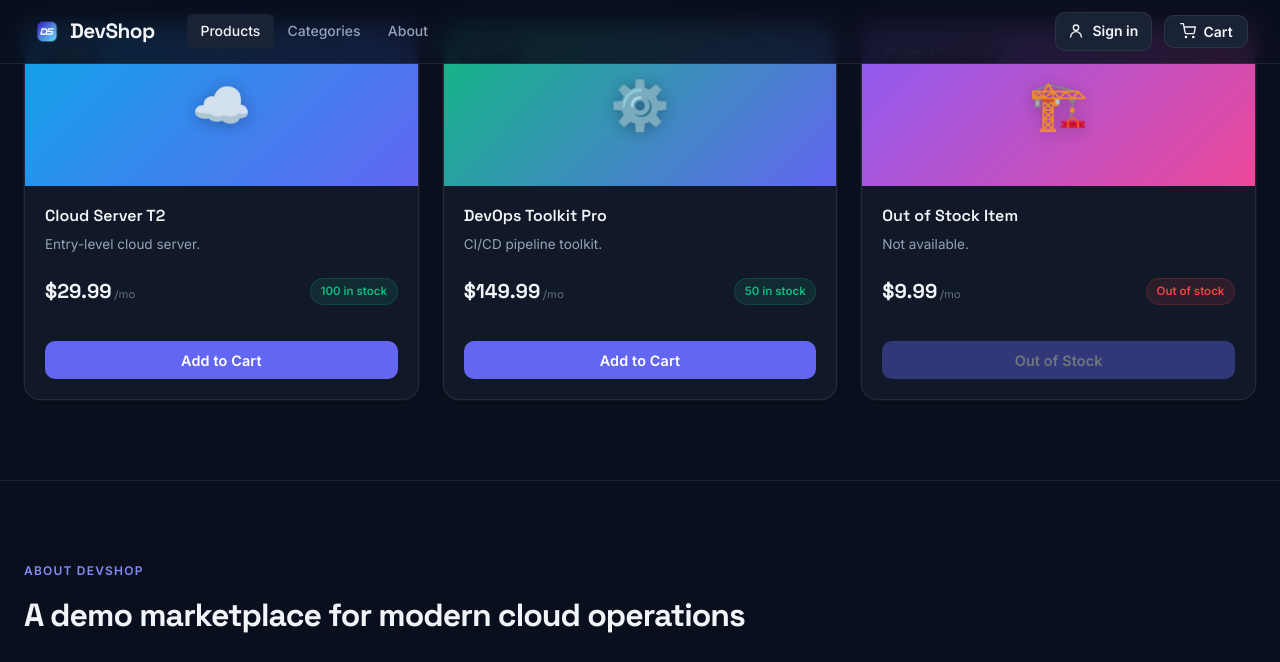
Test: Shopping cart › cart drawer opens and shows added item
(page scrolled)
Check: the heading "Cloud Server T2" is shown, box [45, 204, 165, 226]
Click the button "Add to Cart" below "29.99" at (221, 360), box [45, 341, 398, 380]
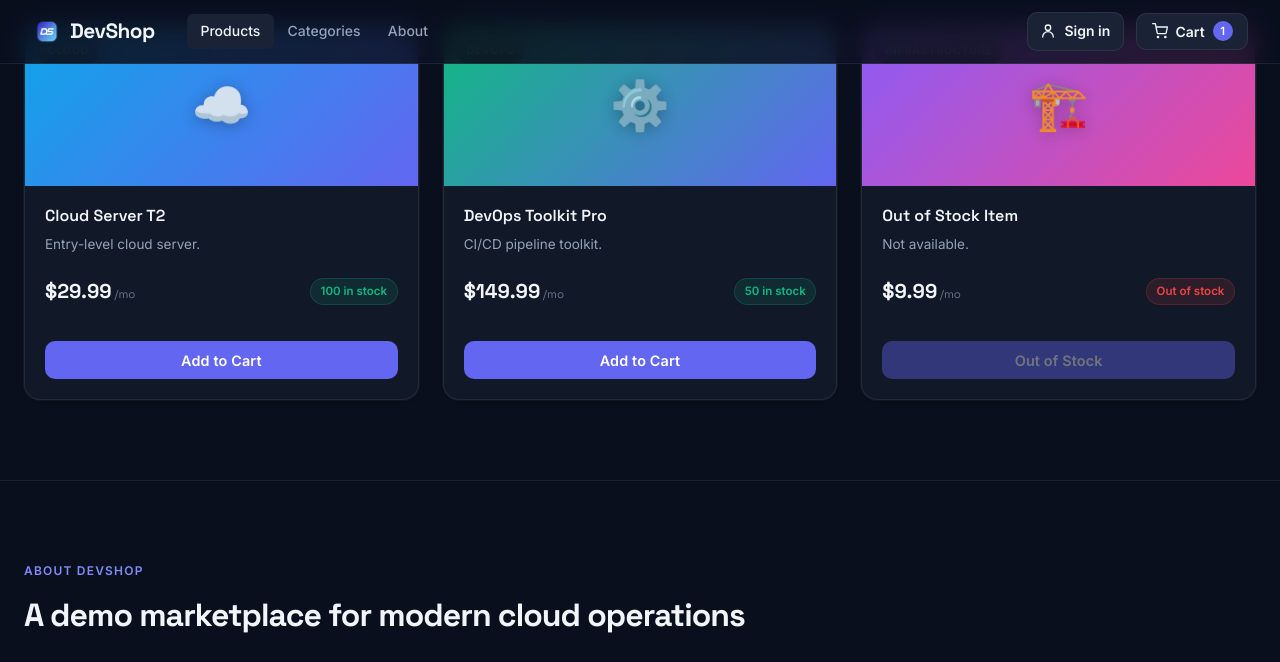
Click the button with aria-label "open cart" at (1192, 32), box [1136, 13, 1248, 50]
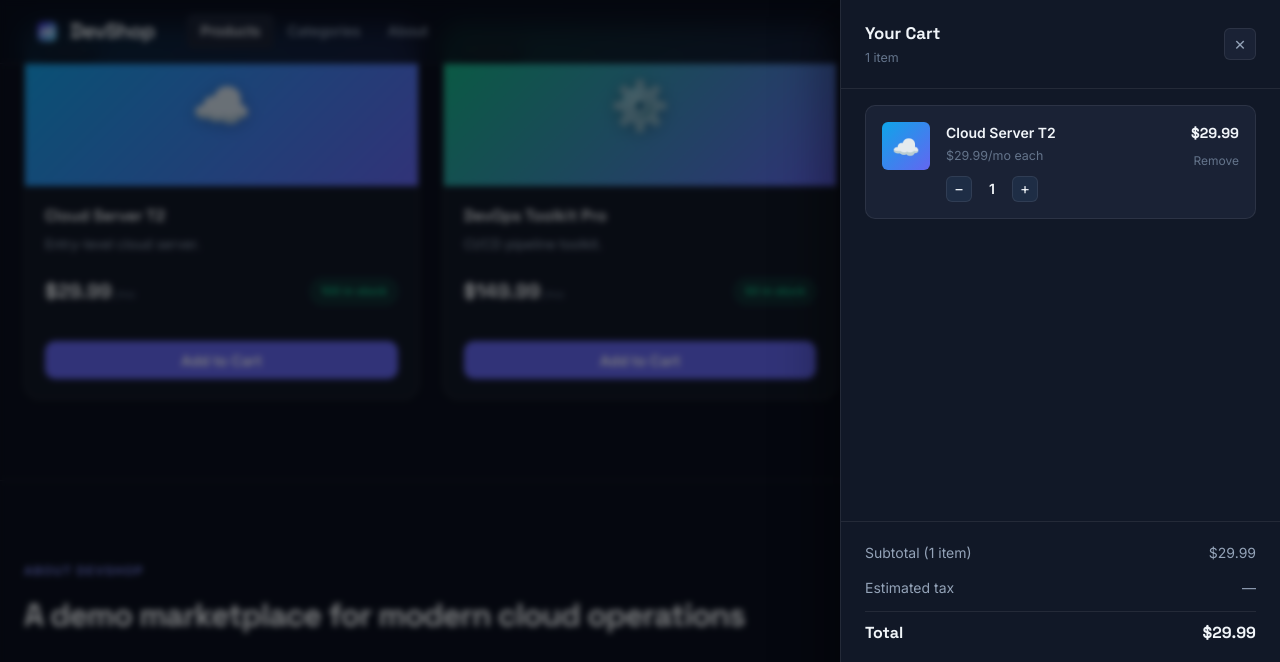
Check: the heading "Your Cart" is shown, box [865, 20, 940, 47]
Check: the text "Cloud Server T2" is shown, box [946, 124, 1056, 141]
